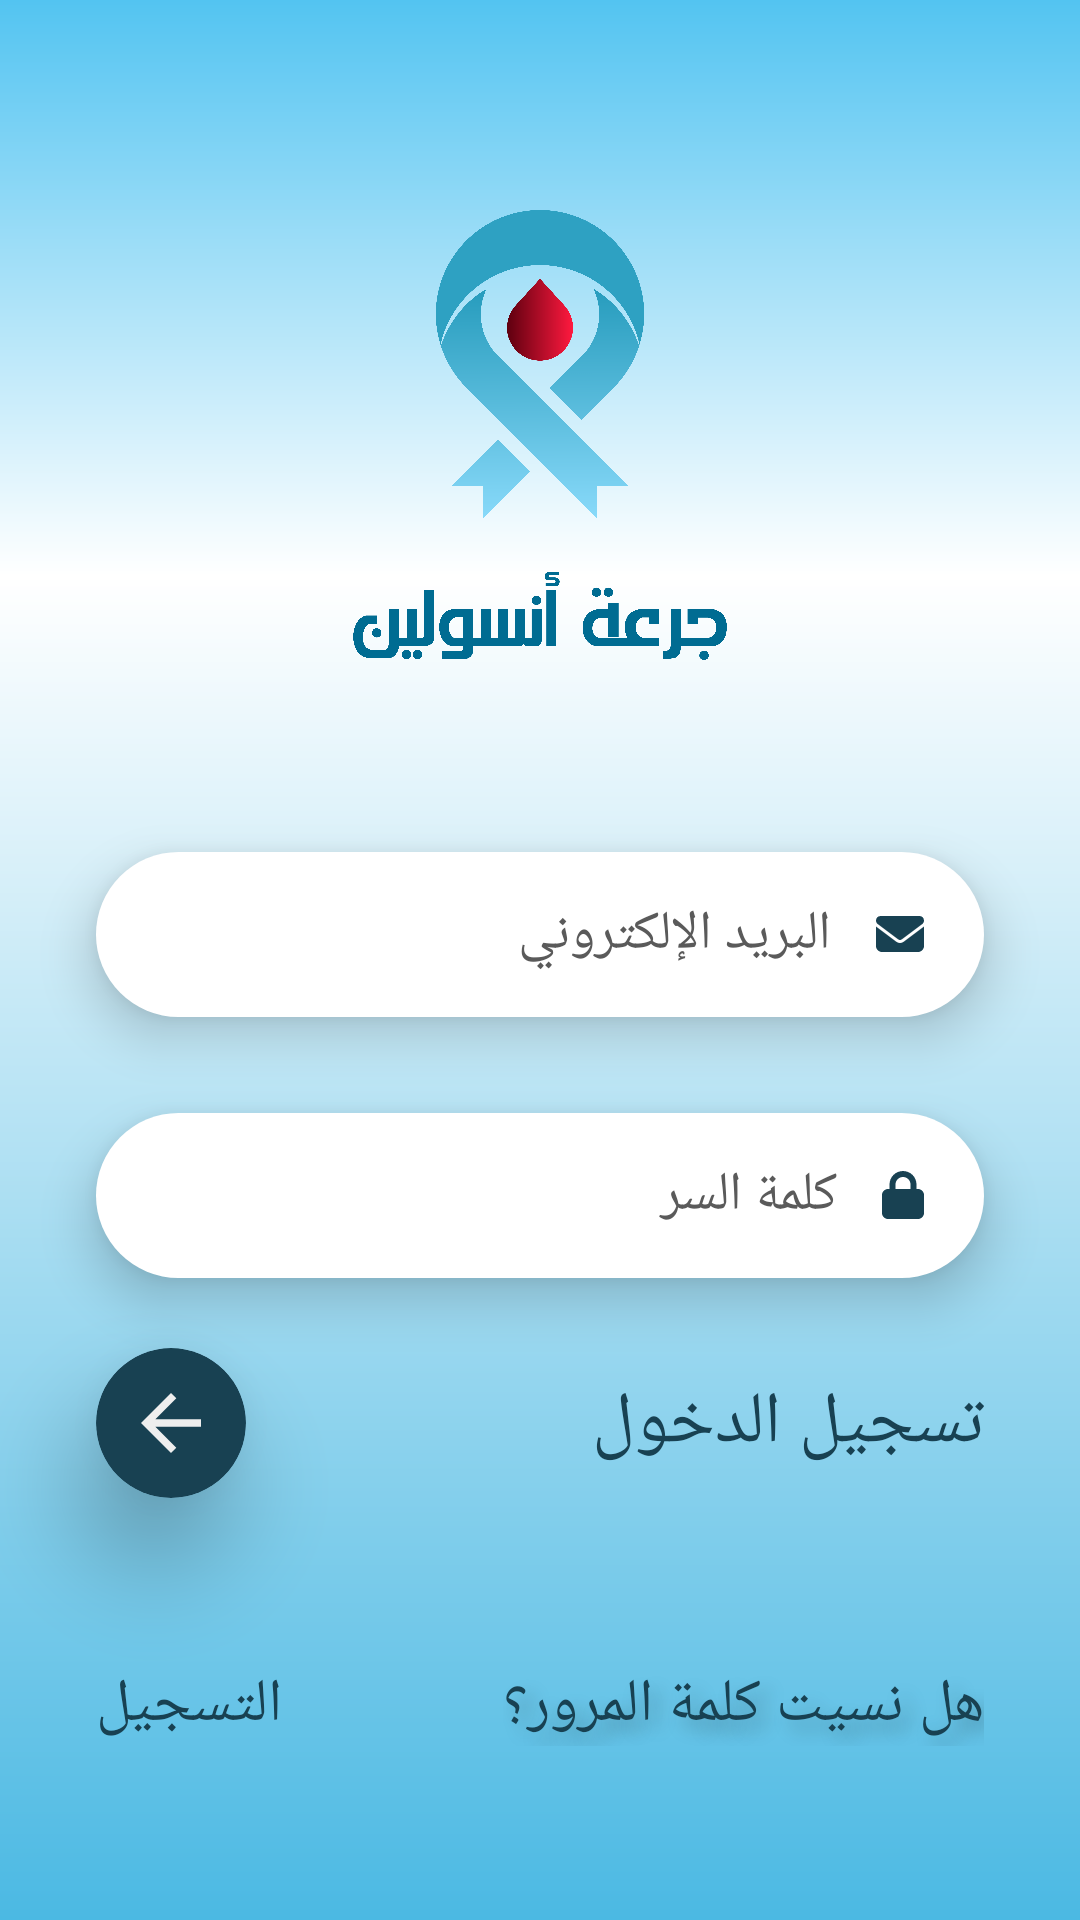

Icons on this 1080 × 1920 Android screen, each with the point to tap as point (x, y):
arrow back: point (171, 1423)
